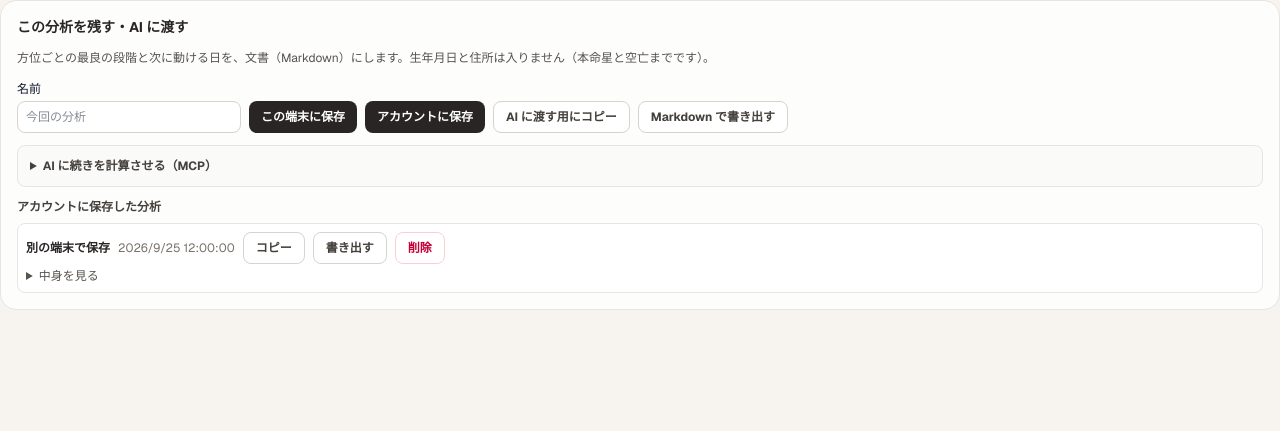
アカウントに保存（ログイン中だけ） › ログイン中はアカウントの一覧を出し、保存すると POST して先頭に並べる
Expected: the text "別の端末で保存" is shown, [26,240,110,256]
Step 1. Click the button "アカウントに保存" → [425, 116], box [365,100,485,132]
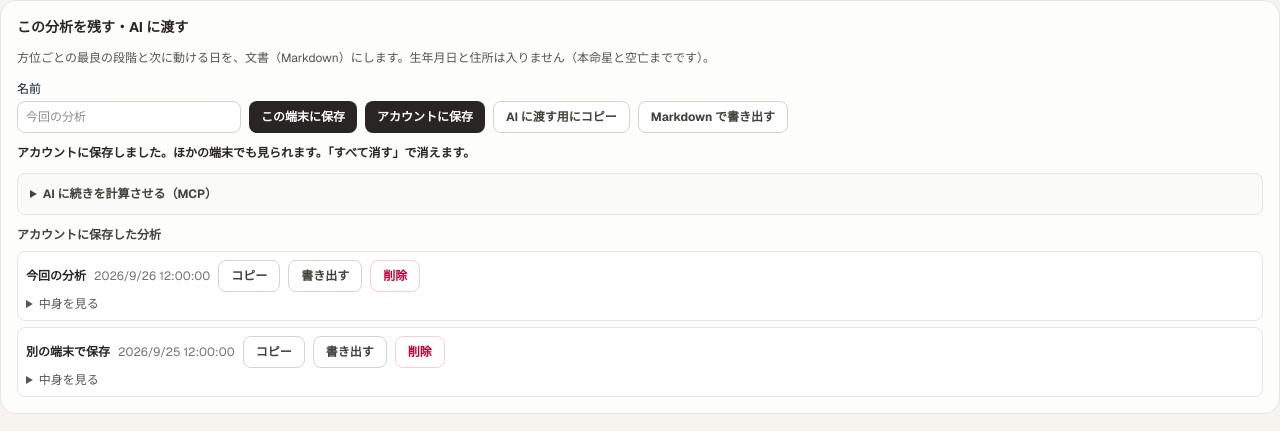
Result: the text "今回の分析" is shown at [26,268,86,284]
Result: the message shows "ほかの端末でも見られます" at [17,144,475,160]
